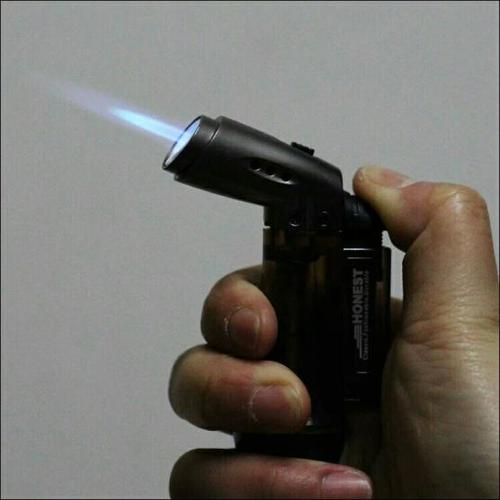fire: (57, 75, 210, 180)
